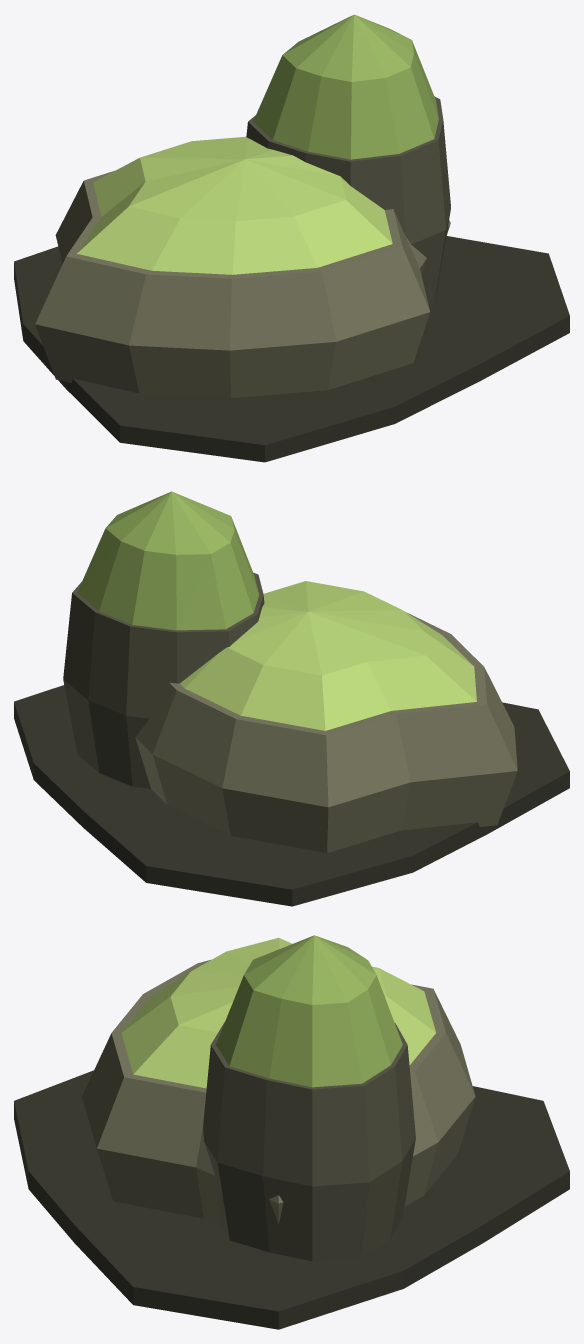
File: eggsac_c.obj
3 renders of one model, top to bottom at view 1: azimuth 30°, elevation 25°; view 2: azimuth 150°, elevation 25°; view 3: azimuth 270°, elevation 25°, orthographic. The views are drawn at different scales.
Visible parts, largest first — view 1: eggsac_c; view 2: eggsac_c; view 3: eggsac_c.
Part boxes in pixels (left/top/right/bottom): eggsac_c: left=14, top=14, right=569, bottom=462; eggsac_c: left=14, top=491, right=569, bottom=906; eggsac_c: left=14, top=935, right=569, bottom=1329.
Size of the model in its own units: 0.9356 by 0.5 by 0.8314.
